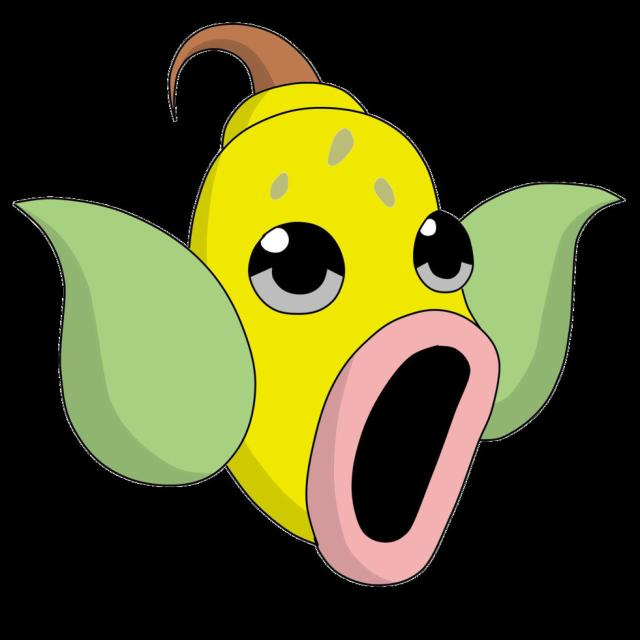Weepinbell: (153, 26, 520, 587)
